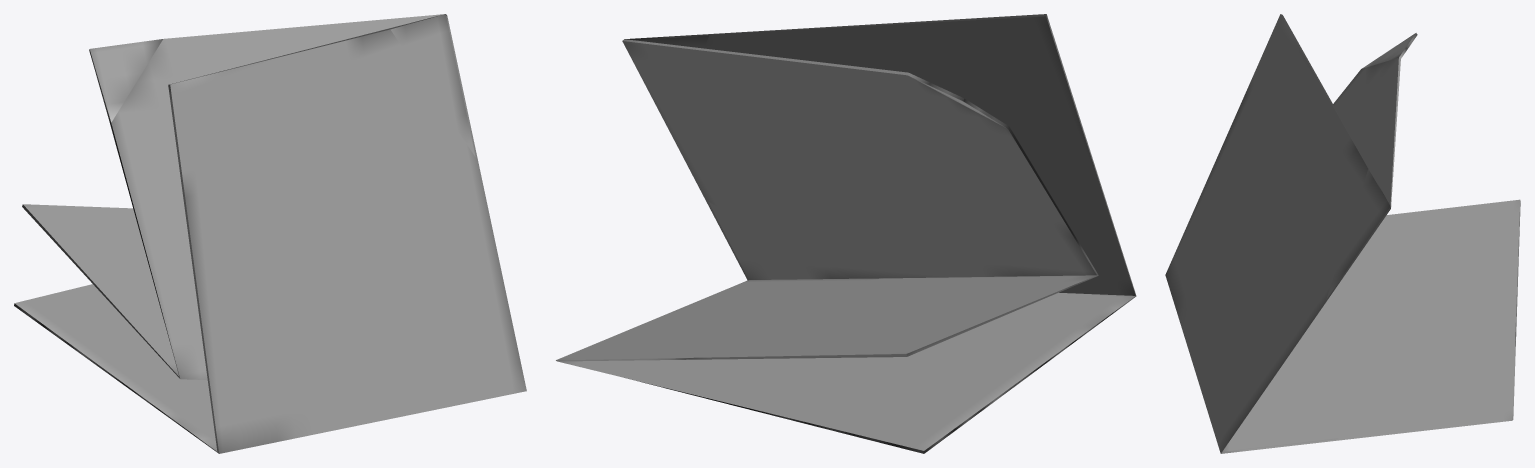
File: Paper.fbx
3 views of the same model, side by side, from view 1: azimuth 30°, elevation 25°; view 2: azimuth 150°, elevation 25°; view 3: azimuth 270°, elevation 25° (orthographic). The views are drawn at different scales.
Parts seen in each view (by area): view 1: Paper; view 2: Paper; view 3: Paper.
Part boxes in pixels (x1,y1,x2,y2): Paper: [14, 14, 526, 453]; Paper: [556, 14, 1136, 453]; Paper: [1165, 14, 1520, 453].
Bounding box in the file's own units: 50.57 × 47.99 × 50.47.
